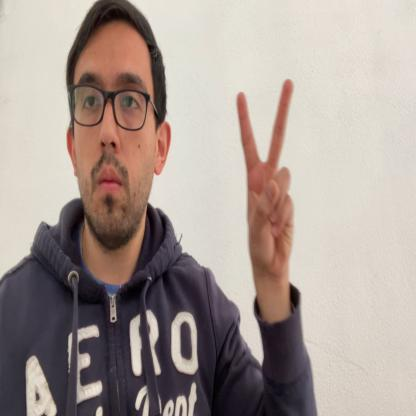V: (236, 78, 296, 285)
